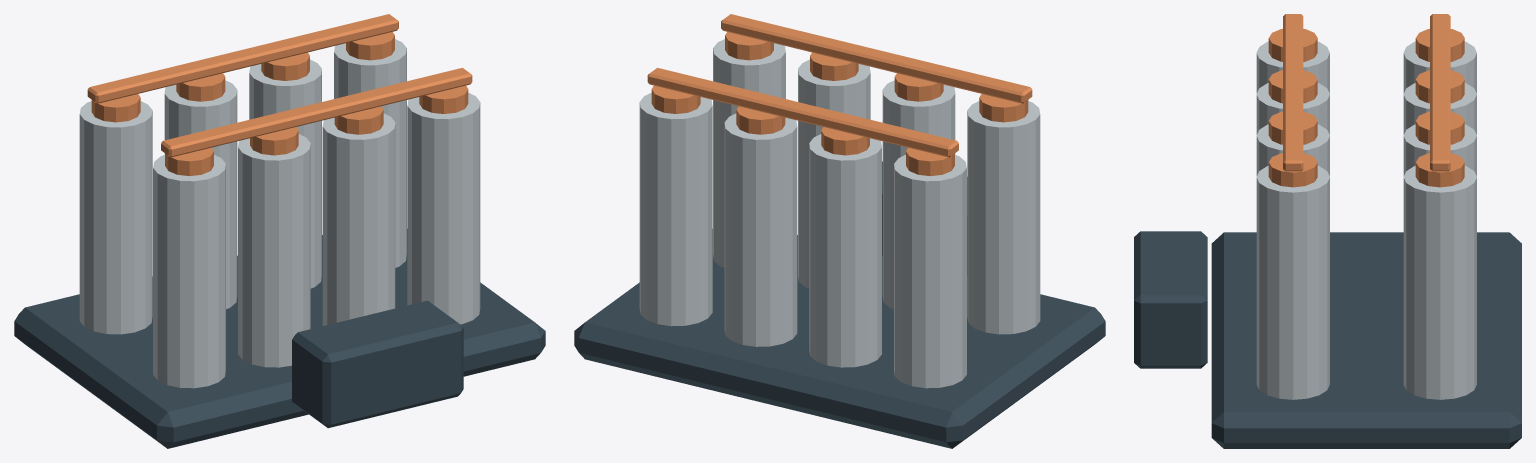
3 renders of one model, left to right at view 1: azimuth 30°, elevation 25°; view 2: azimuth 150°, elevation 25°; view 3: azimuth 270°, elevation 25°, orthographic.
Parts seen in each view (by area): view 1: RI-028 Individually celled battery cassette batched; view 2: RI-028 Individually celled battery cassette batched; view 3: RI-028 Individually celled battery cassette batched.
Boxes of the visible parts, x1,y1,x2,y2 form: RI-028 Individually celled battery cassette batched: (14,14,545,448); RI-028 Individually celled battery cassette batched: (574,14,1105,448); RI-028 Individually celled battery cassette batched: (1134,14,1521,448).
Size of the model in its own units: 0.55 by 0.3675 by 0.475.
